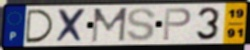3: (194, 6, 224, 42)
D: (25, 9, 56, 45)
M: (89, 6, 129, 44)
P: (161, 7, 193, 42)
S: (125, 7, 158, 43)
X: (55, 7, 88, 44)
